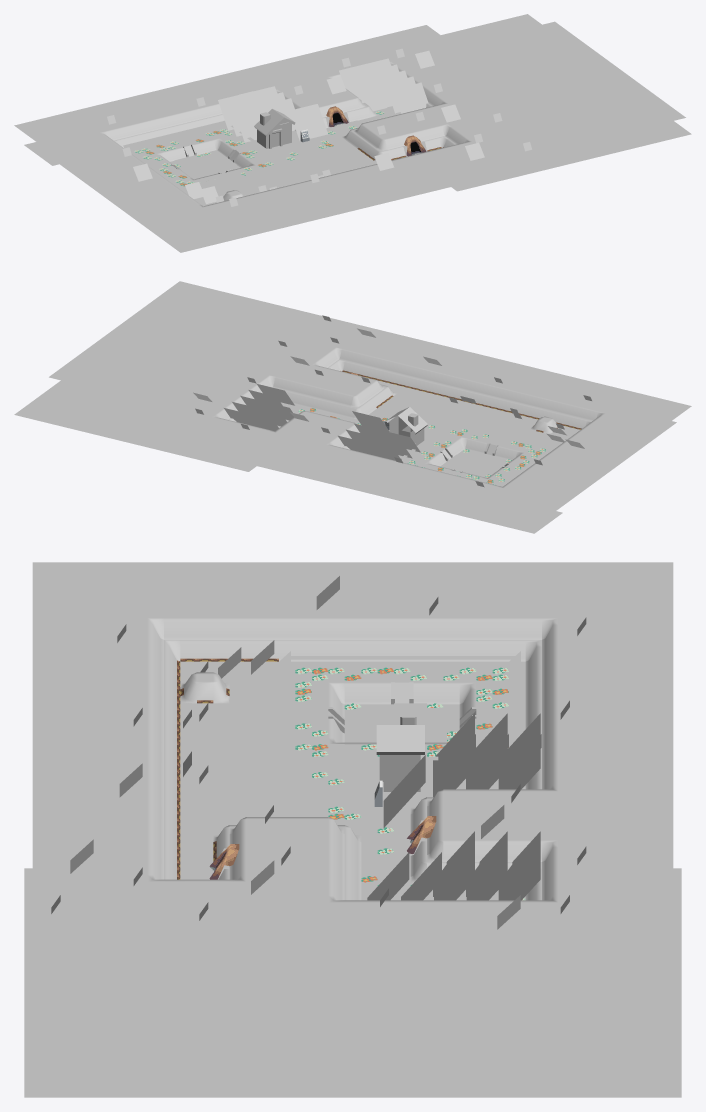
Rendered from Mt. Moon Square (Tuesday to Sunday).fbx.
3 views of the same model, one above another, from view 1: azimuth 30°, elevation 25°; view 2: azimuth 150°, elevation 25°; view 3: azimuth 270°, elevation 25° (orthographic). The views are drawn at different scales.
Parts seen in each view (by area): view 1: m_dun0203_00_00c, m_dun0203_01_00c, nbc_h01; view 2: m_dun0203_00_00c, m_dun0203_01_00c, nbc_h01; view 3: m_dun0203_00_00c, m_dun0203_01_00c, nbc_h01.
Boxes of the visible parts, <box> form: m_dun0203_00_00c: <box>14,56,457,252</box>; m_dun0203_01_00c: <box>299,14,691,191</box>; nbc_h01: <box>254,109,300,151</box>; m_dun0203_00_00c: <box>247,336,691,533</box>; m_dun0203_01_00c: <box>14,281,406,471</box>; nbc_h01: <box>386,407,427,445</box>; m_dun0203_00_00c: <box>32,562,673,869</box>; m_dun0203_01_00c: <box>24,831,681,1097</box>; nbc_h01: <box>367,710,426,797</box>.
Size of the model in its own units: 116000 by 12700 by 64000.
